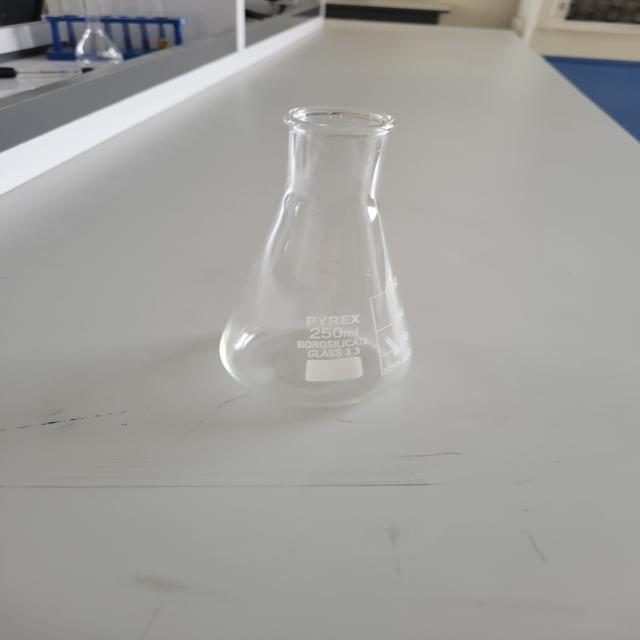Conical_Flask: (199, 62, 442, 414)
